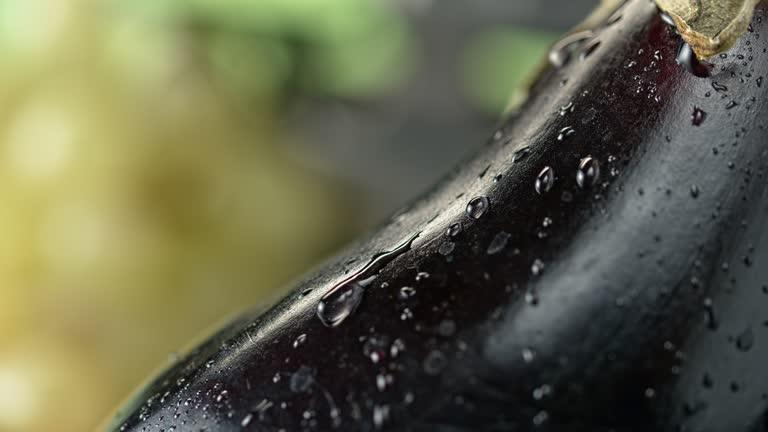Brinjal: (579, 0, 768, 432), (479, 131, 581, 432), (391, 199, 477, 432), (312, 246, 385, 432), (243, 297, 317, 432), (161, 335, 239, 432), (118, 388, 160, 432)
